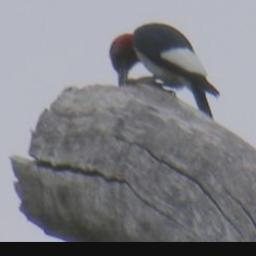Woodpecker: (104, 19, 224, 121)
